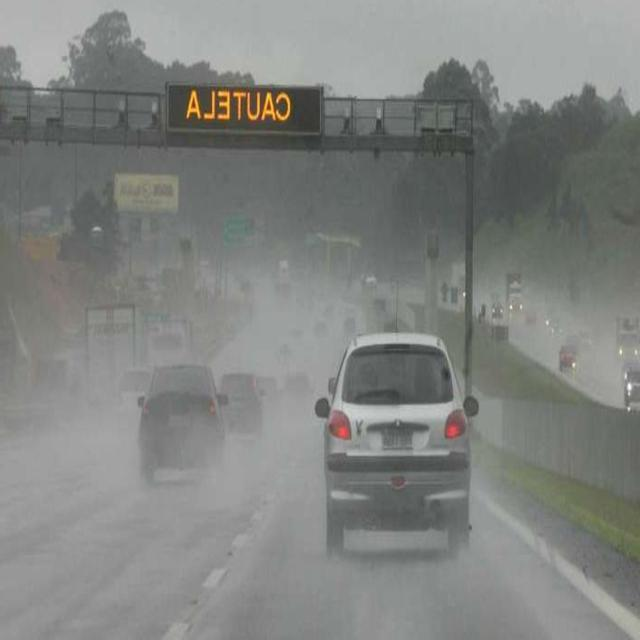Car: (310, 328, 477, 557), (137, 357, 227, 487), (219, 374, 269, 436)
